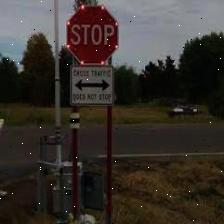Stop: (65, 5, 120, 66)
